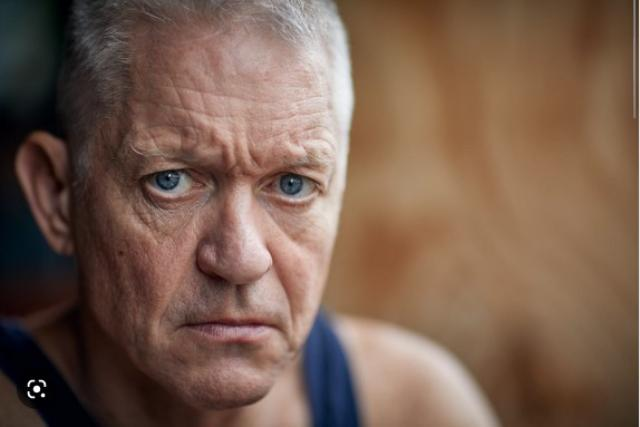forehead: (169, 85, 197, 121), (299, 116, 327, 134)
frown_line: (221, 149, 255, 177)
gummy_smile: (272, 264, 298, 316)
